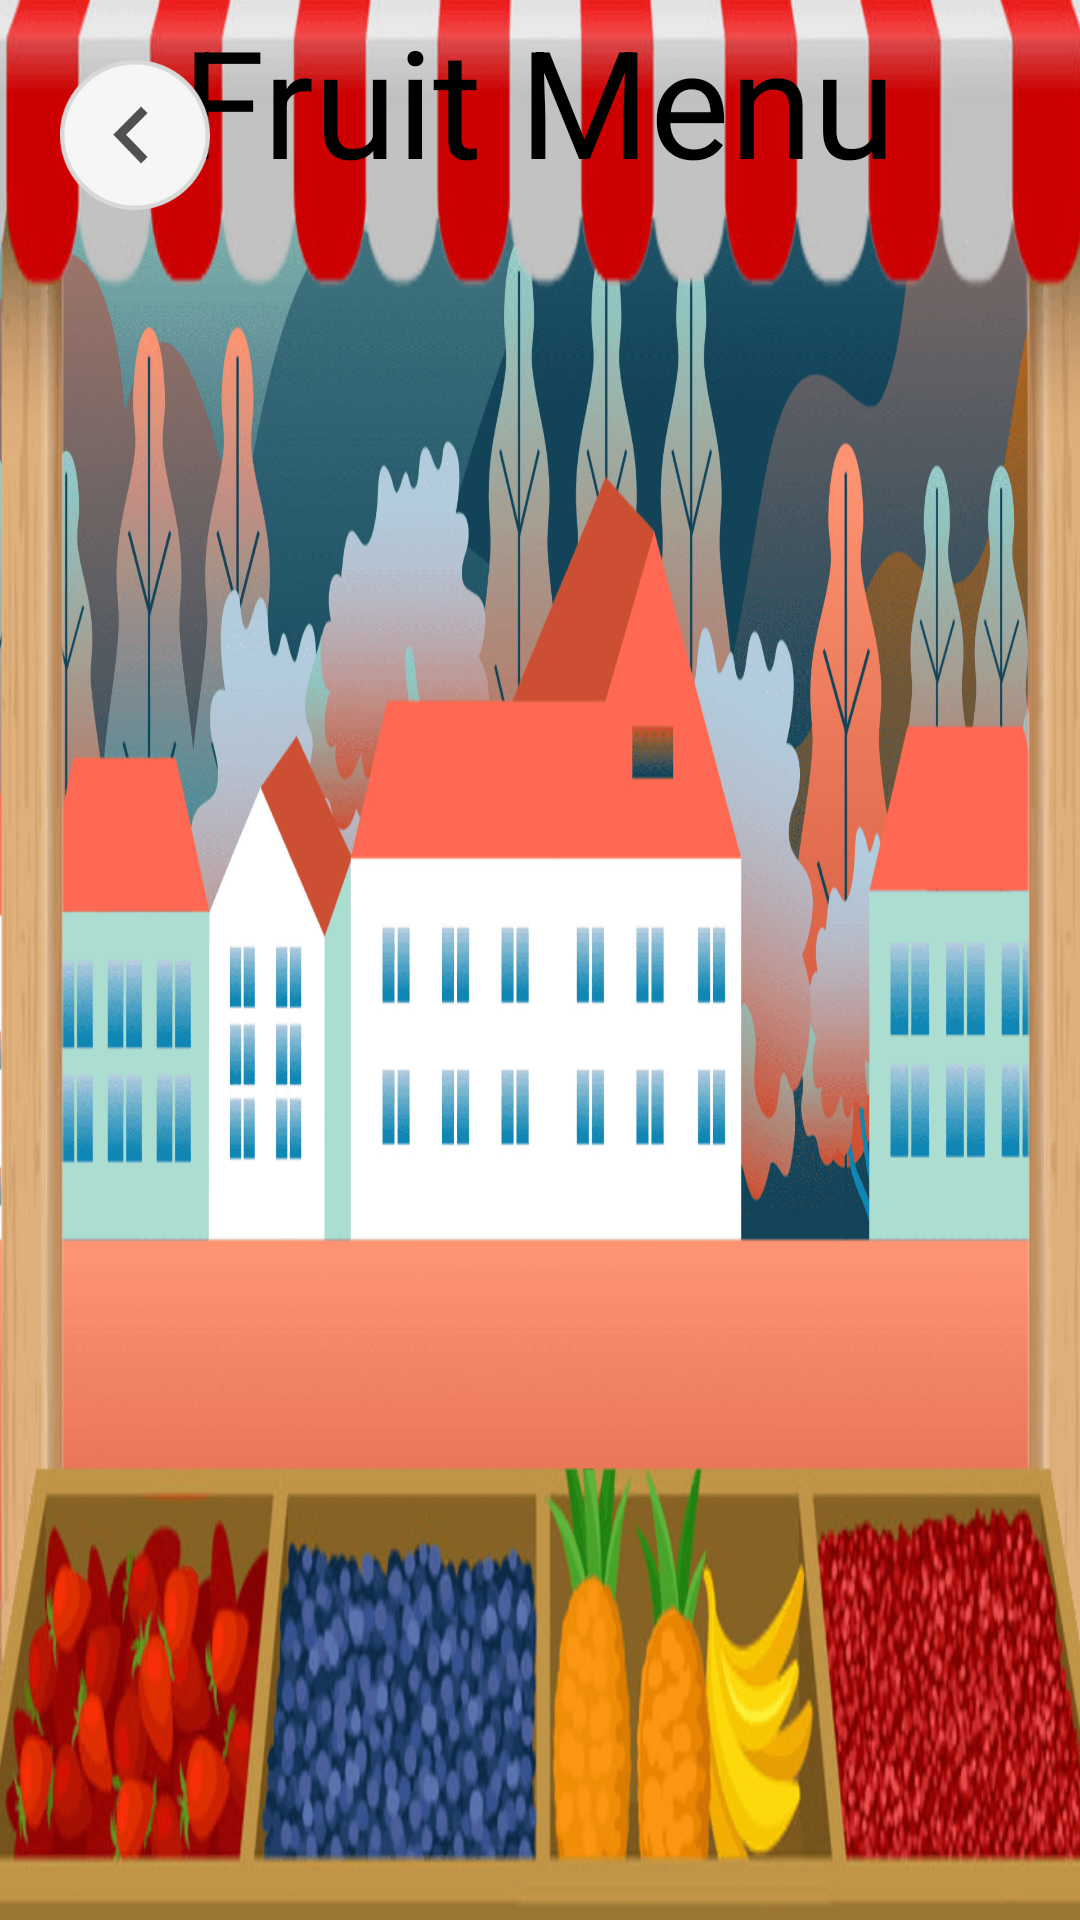

Screen size 1080px×1920px. Icon name, then its center in pixels as (x=x, y=y):
back: (x=135, y=135)
